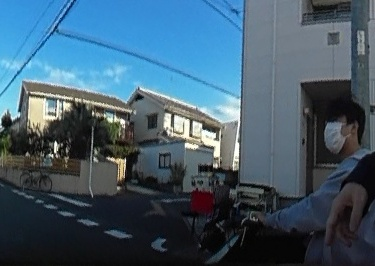person: (295, 99, 372, 266)
